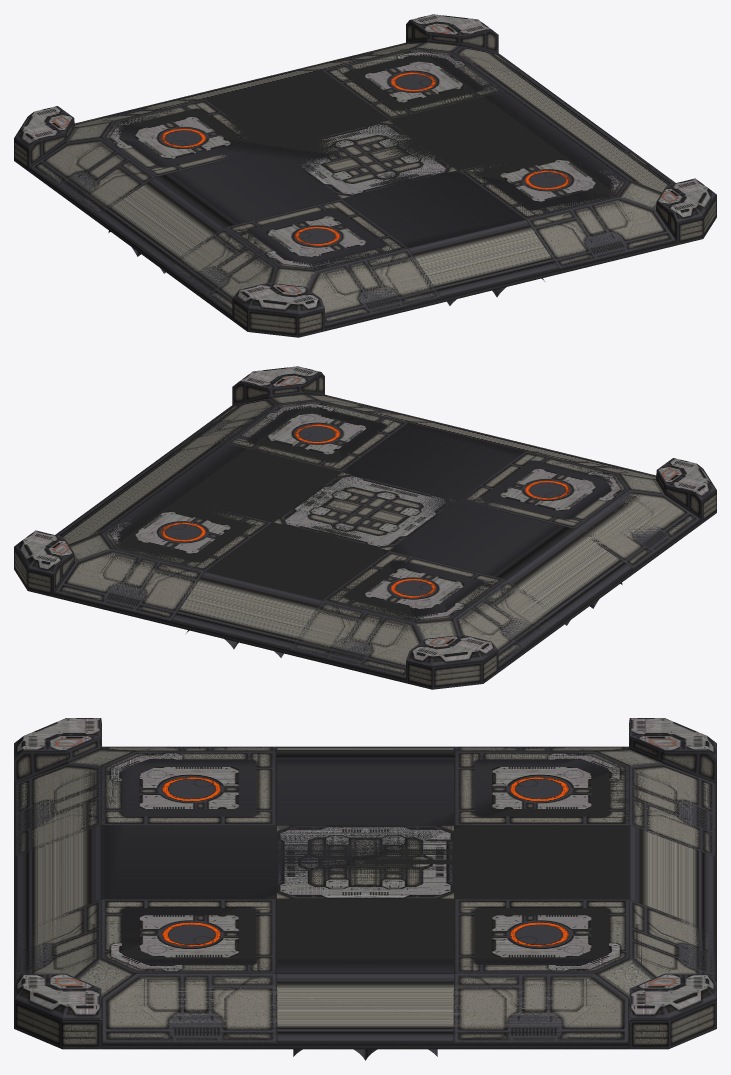
Rendered from pipes_fbx.fbx.
The picture shows the model from 3 angles, top to bottom: view 1: azimuth 30°, elevation 25°; view 2: azimuth 150°, elevation 25°; view 3: azimuth 270°, elevation 25°; orthographic projection. The views are drawn at different scales.
Parts seen in each view (by area): view 1: pipes_cl, pipes; view 2: pipes_cl, pipes; view 3: pipes_cl, pipes.
Part boxes in pixels (bbox=[...]): pipes_cl: bbox=[18, 43, 696, 330]; pipes: bbox=[14, 14, 716, 337]; pipes_cl: bbox=[54, 395, 714, 688]; pipes: bbox=[14, 366, 716, 689]; pipes_cl: bbox=[14, 746, 716, 1049]; pipes: bbox=[14, 718, 716, 1060].
Size of the model in its own units: 3000 by 258 by 3000.
Materials: 2 (2 with a texture image).
